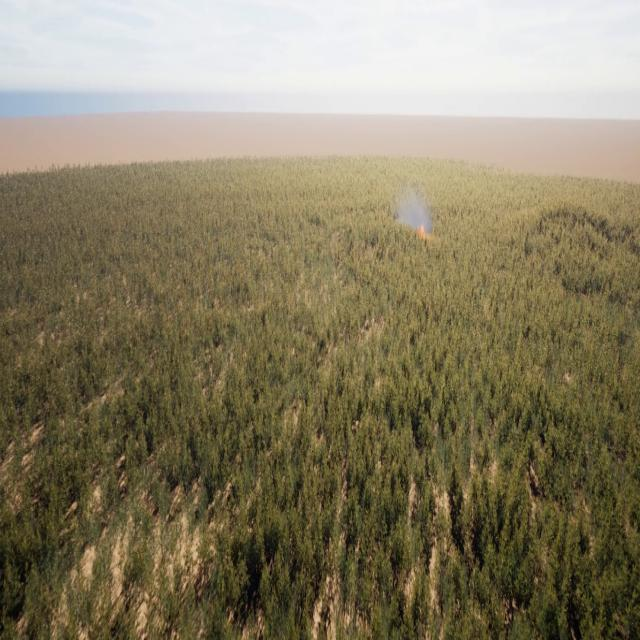fire: (417, 222, 430, 238)
smoke: (396, 182, 436, 245)
